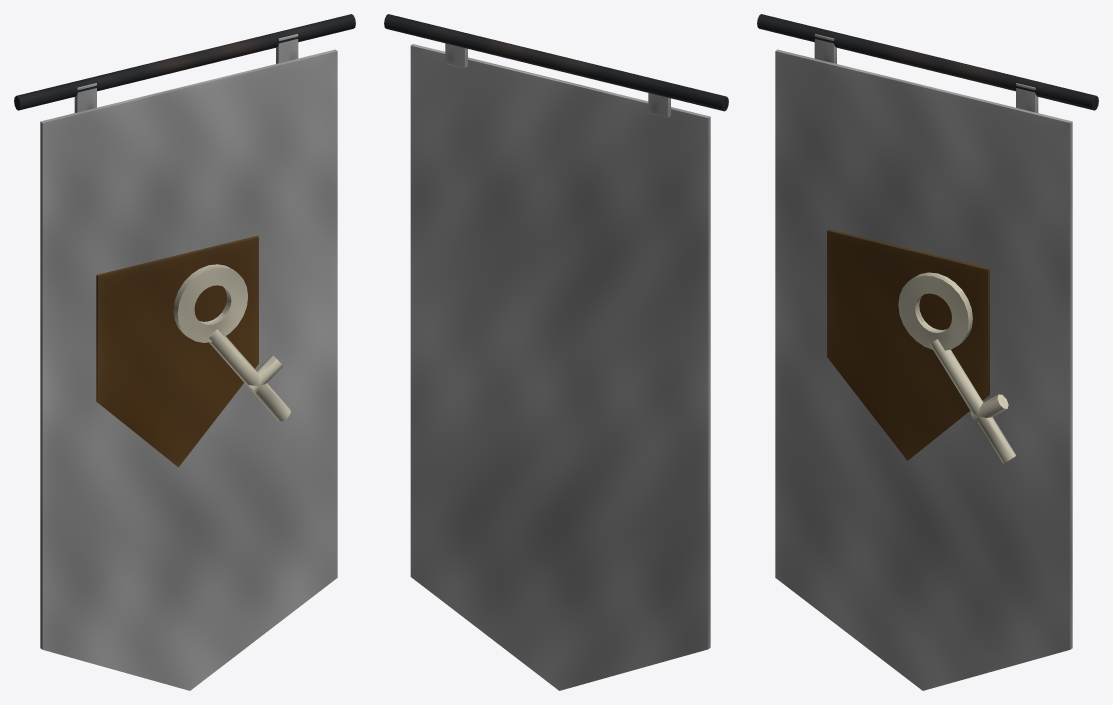
File: Furn_Banner_Council.fbx
3 renders of one model, left to right at view 1: azimuth 30°, elevation 25°; view 2: azimuth 150°, elevation 25°; view 3: azimuth 330°, elevation 25°, orthographic.
Visible parts, largest first — view 1: Furn_Banner_Council; view 2: Furn_Banner_Council; view 3: Furn_Banner_Council.
Boxes of the visible parts, bbox=[...] form: Furn_Banner_Council: bbox=[14, 14, 355, 690]; Furn_Banner_Council: bbox=[384, 14, 728, 690]; Furn_Banner_Council: bbox=[757, 14, 1098, 690].
Size of the model in its own units: 1 by 1.8 by 0.08.
Materials: 4 (4 with a texture image).
